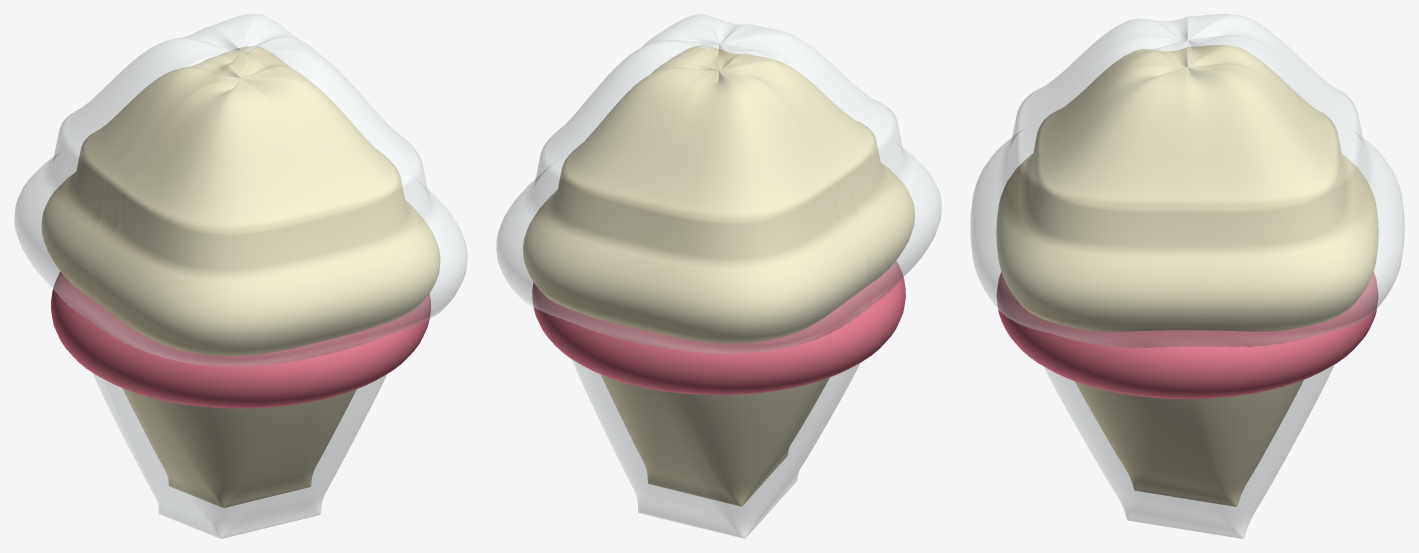
File: tooth-anatomy.glb
3 renders of one model, left to right at view 1: azimuth 30°, elevation 25°; view 2: azimuth 150°, elevation 25°; view 3: azimuth 270°, elevation 25°, orthographic. The views are drawn at different scales.
Parts seen in each view (by area): view 1: Layer_Enamel, Layer_Dentin, Layer_Gingiva; view 2: Layer_Enamel, Layer_Dentin, Layer_Gingiva; view 3: Layer_Enamel, Layer_Dentin, Layer_Gingiva.
Part boxes in pixels (x1,y1,x2,y2): Layer_Enamel: (14,14,467,538); Layer_Dentin: (41,46,440,507); Layer_Gingiva: (51,271,430,408); Layer_Enamel: (496,14,941,538); Layer_Dentin: (523,45,914,506); Layer_Gingiva: (532,260,905,394); Layer_Enamel: (970,14,1404,538); Layer_Dentin: (996,45,1378,506); Layer_Gingiva: (996,272,1378,399).
Size of the model in its own units: 2.22 by 2.98 by 2.43.
